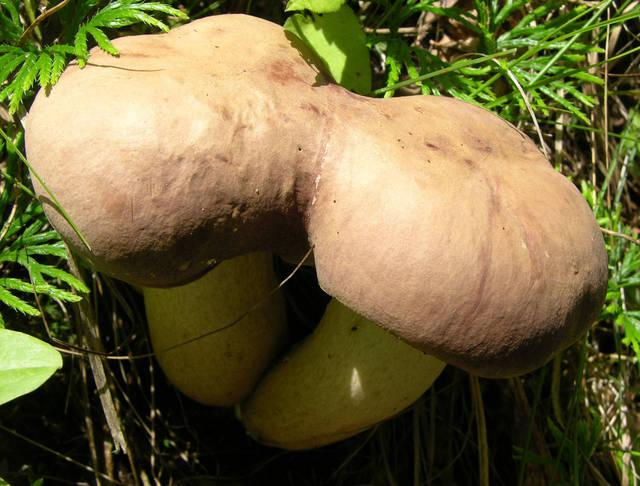Non-edible Mushroom: (20, 11, 610, 450)
